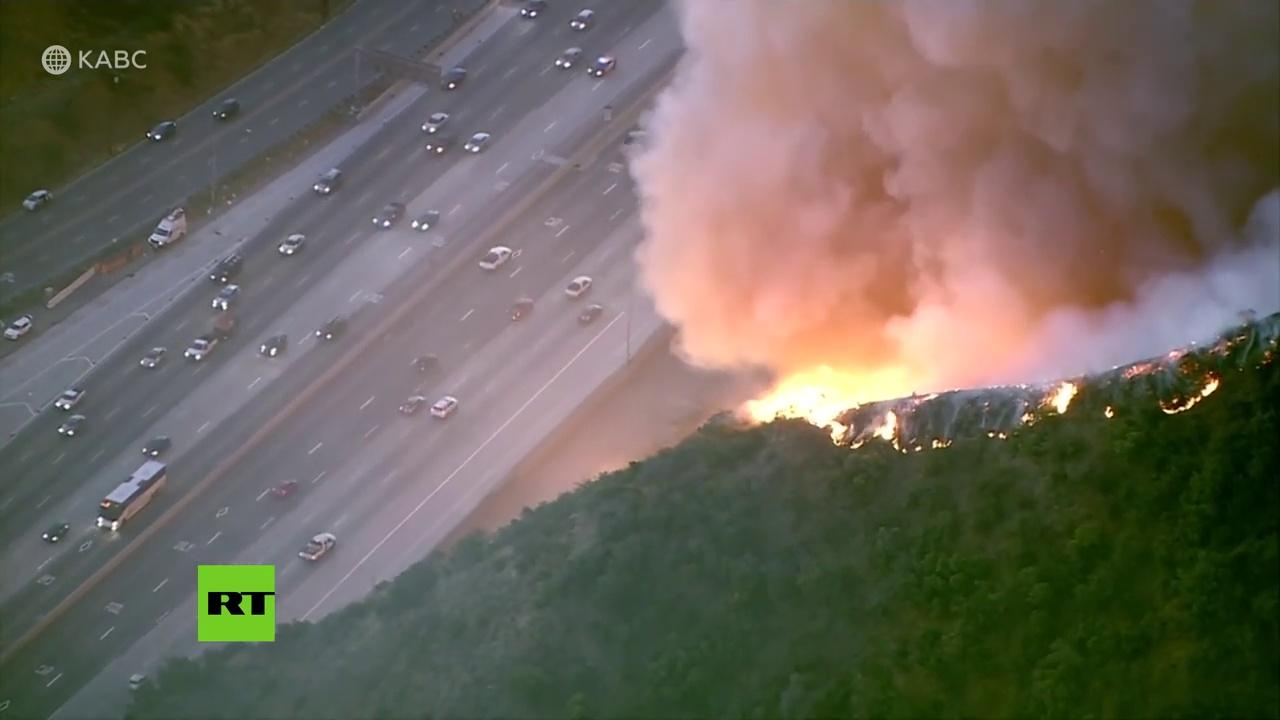Fire: (757, 363, 910, 459), (1022, 383, 1079, 427), (1161, 378, 1223, 418), (927, 438, 950, 448)
